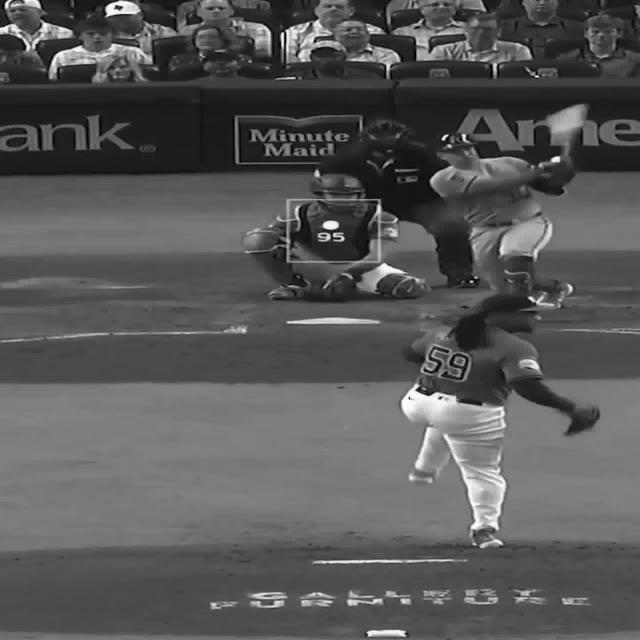baseball_glove: (564, 404, 600, 436)
bat: (558, 104, 585, 158)
shoe: (519, 280, 575, 312), (266, 273, 310, 300), (468, 526, 504, 548), (446, 274, 480, 288), (408, 466, 436, 483)
